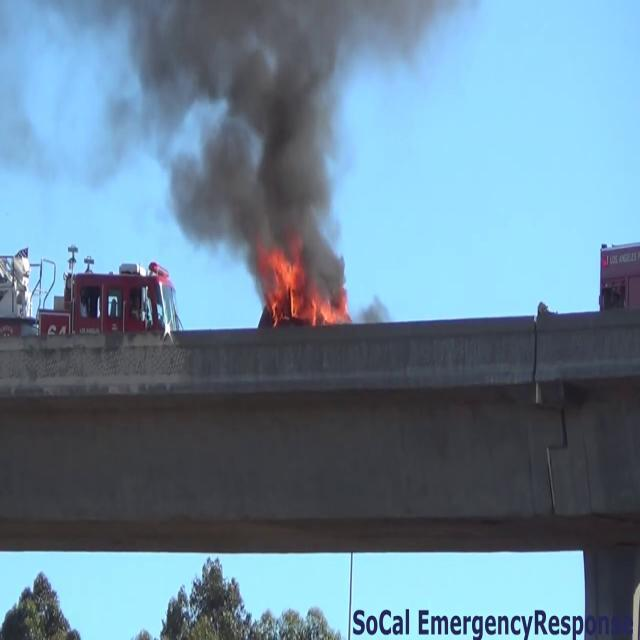Fire: (258, 248, 352, 330)
Smoke: (119, 0, 432, 265)
